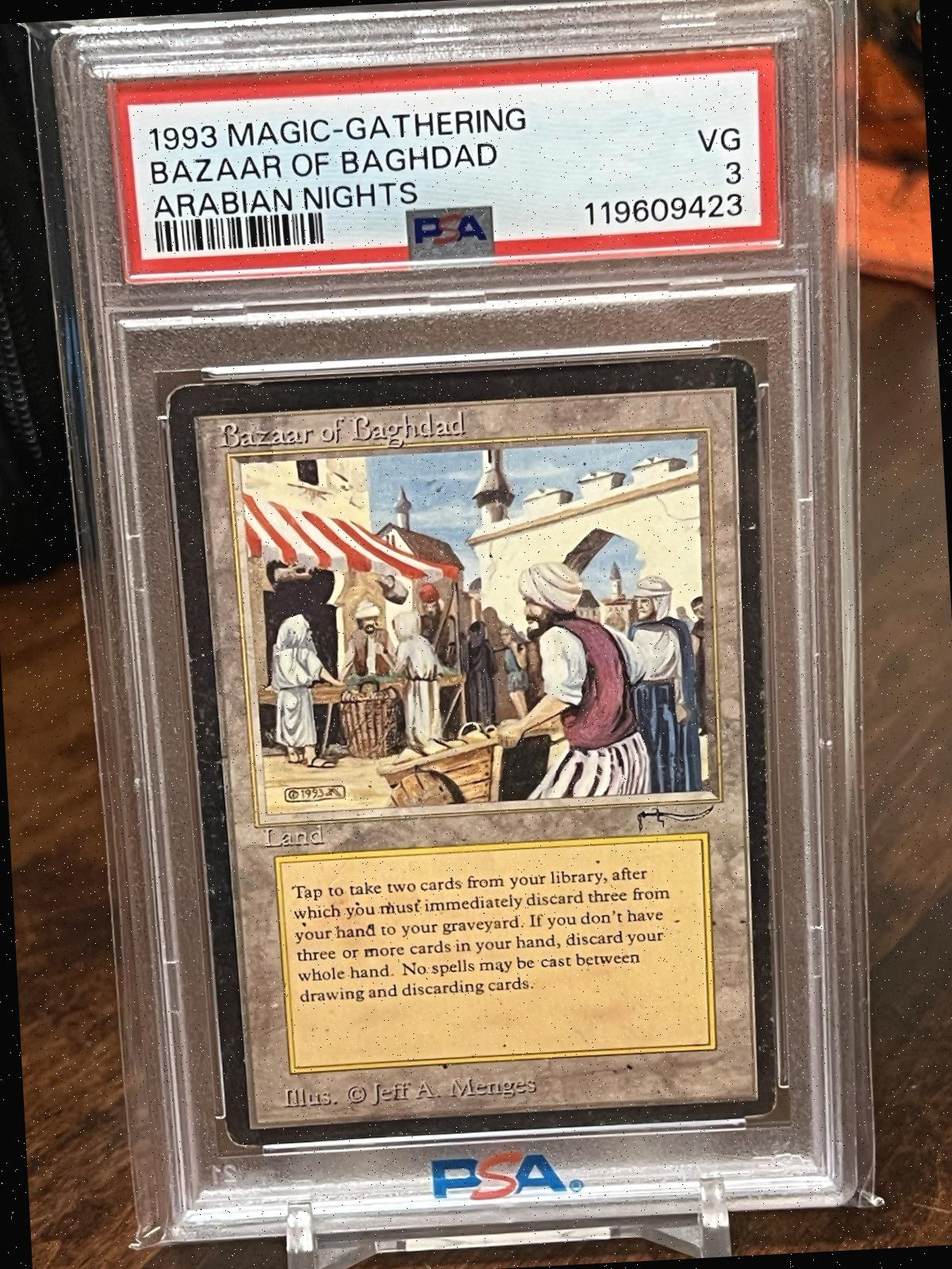card-2UtV: (165, 354, 778, 1147)
